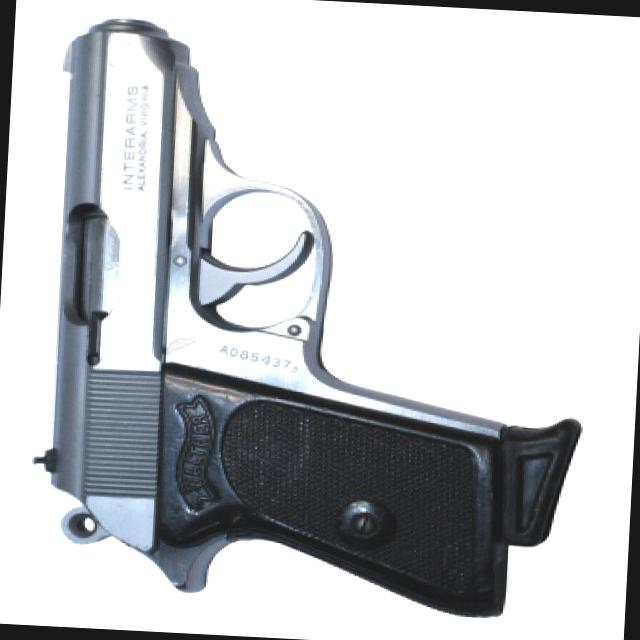handgun: (29, 9, 599, 628)
